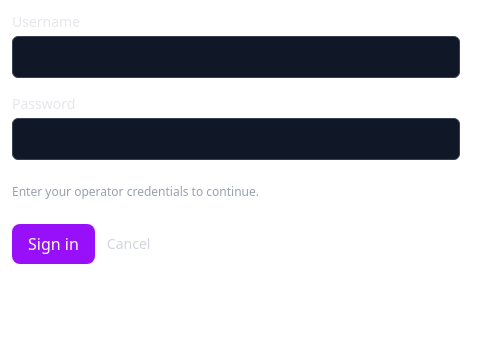
it: LoginForm › validates required fields
Click the button "Sign in" at [53, 244], box [12, 224, 95, 264]
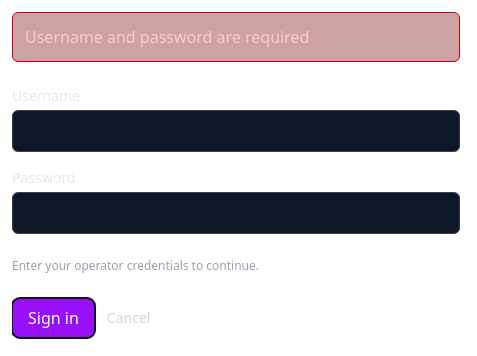
Expected: the message reads "Username and password are required", [25, 26, 309, 48]
